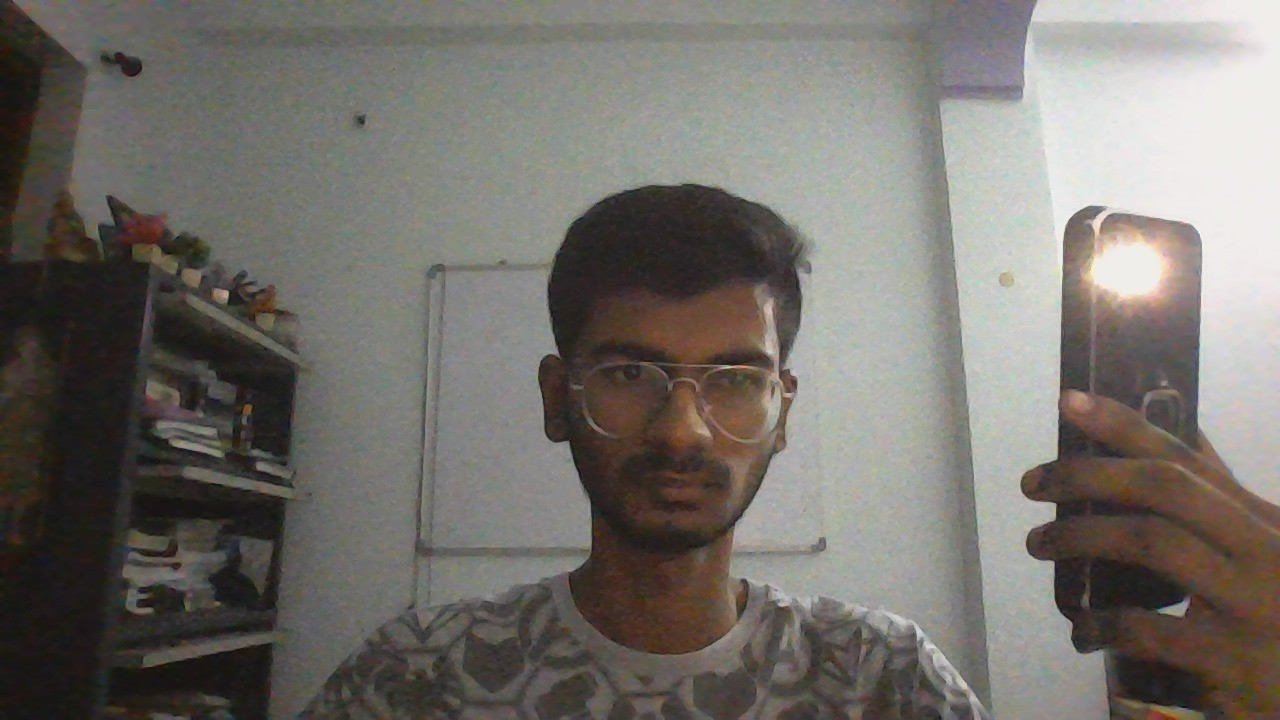Glare: (1076, 237, 1168, 302)
